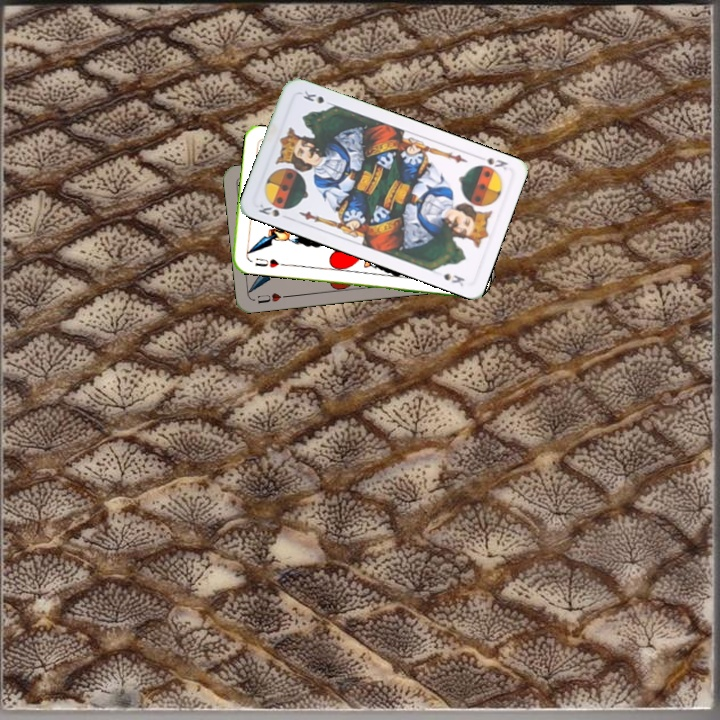HU: (254, 289, 291, 306), (251, 254, 281, 270)
SK: (473, 151, 510, 172), (254, 198, 282, 219)
